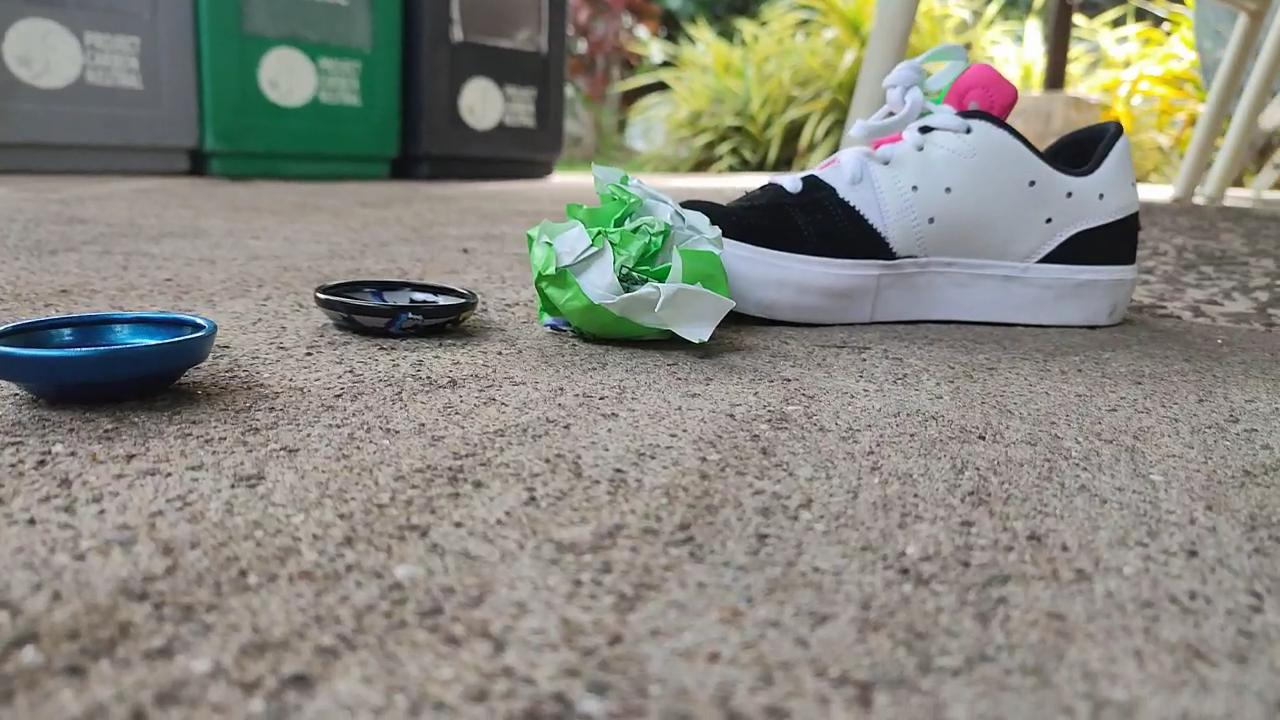Paper: (509, 150, 741, 372)
